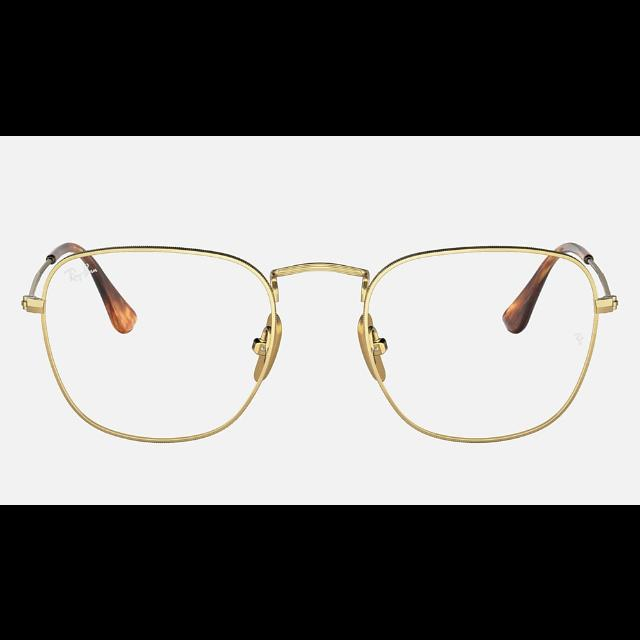glasses: (23, 239, 617, 441)
